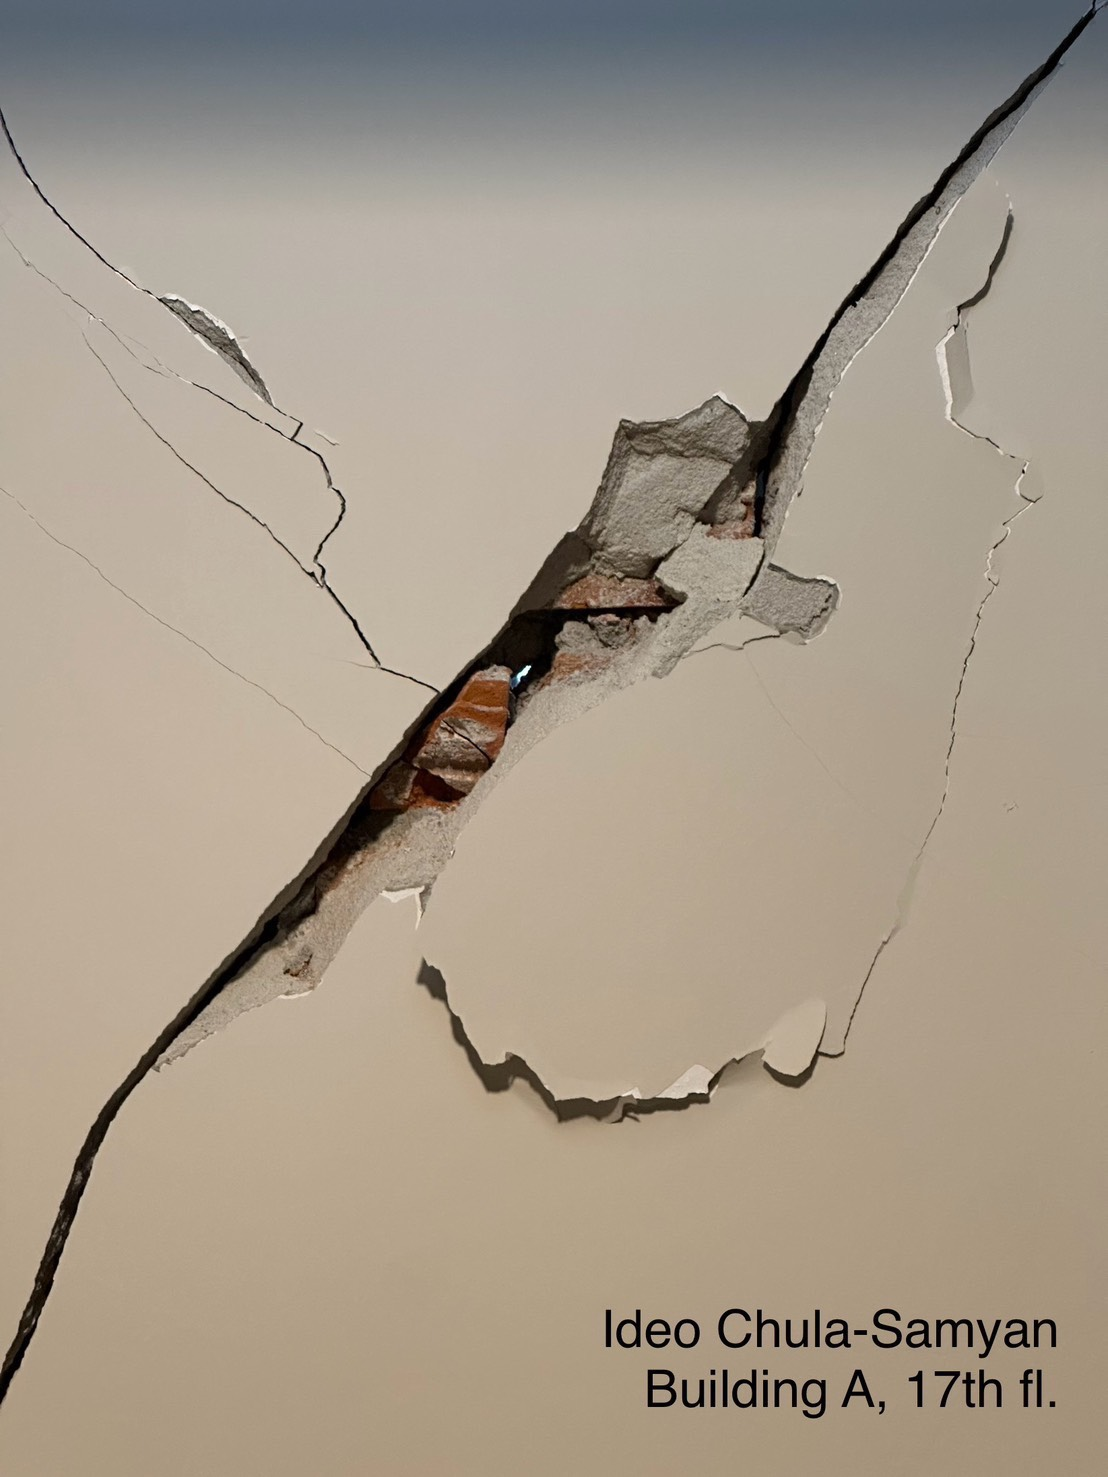Medium: (138, 226, 933, 1205)
